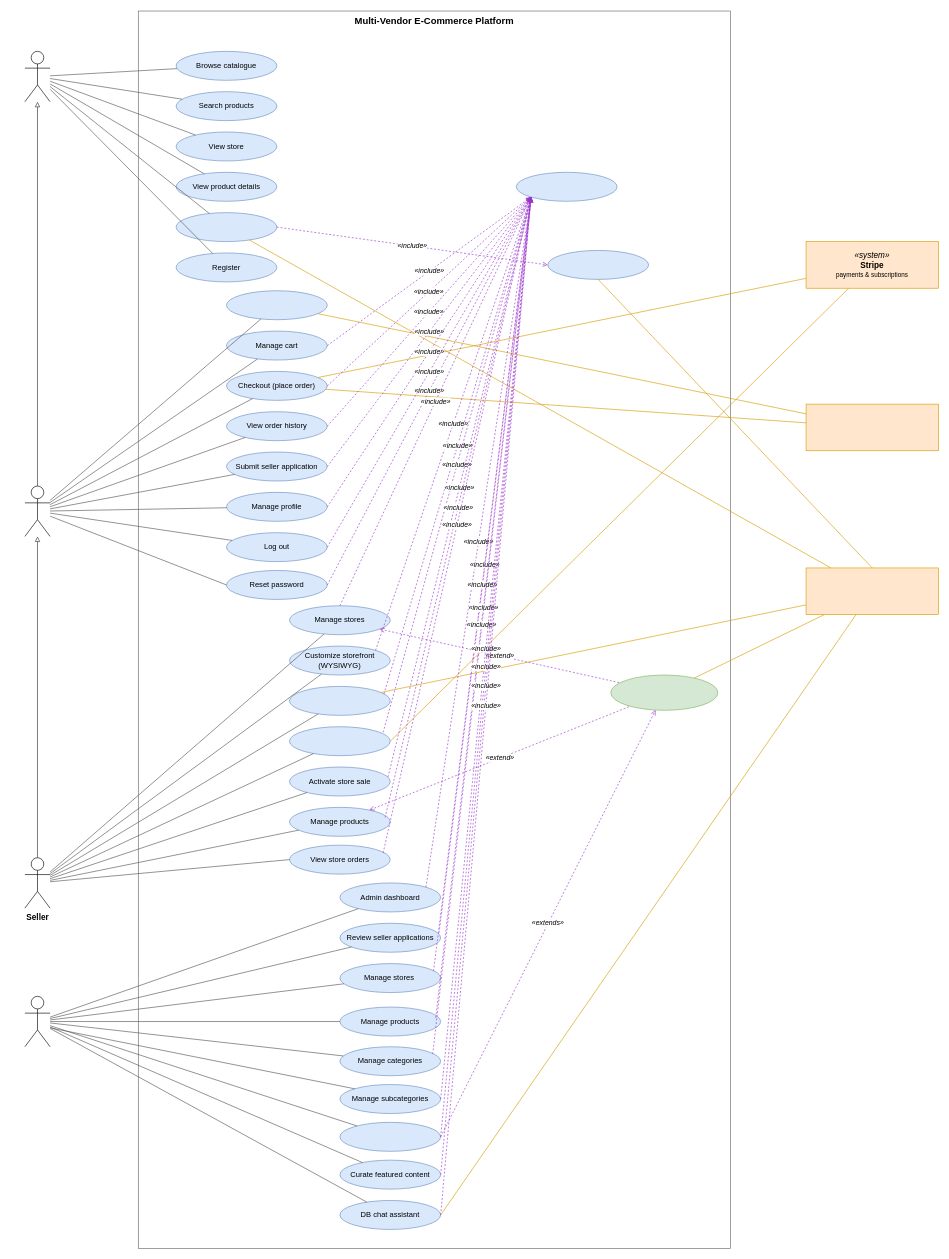
Image size: 949x1259. Some labels were removed from this diagram. Here are the shapes that lost their labels. From the top down, the centre of each, then its label:
(37,76): Visitor
(566,186): Log in
(226,227): View product suggestions
(598,264): Curate product suggestions
(276,305): Verify email
(871,427): «system» Email service SMTP
(37,510): Customer
(871,591): «system» AI Engine n8n + LLM
(339,700): AI storefront redesign
(664,692): AI verification (store & product)
(339,741): Manage premium subscription
(37,1021): Administrator
(390,1136): Override AI verdict
